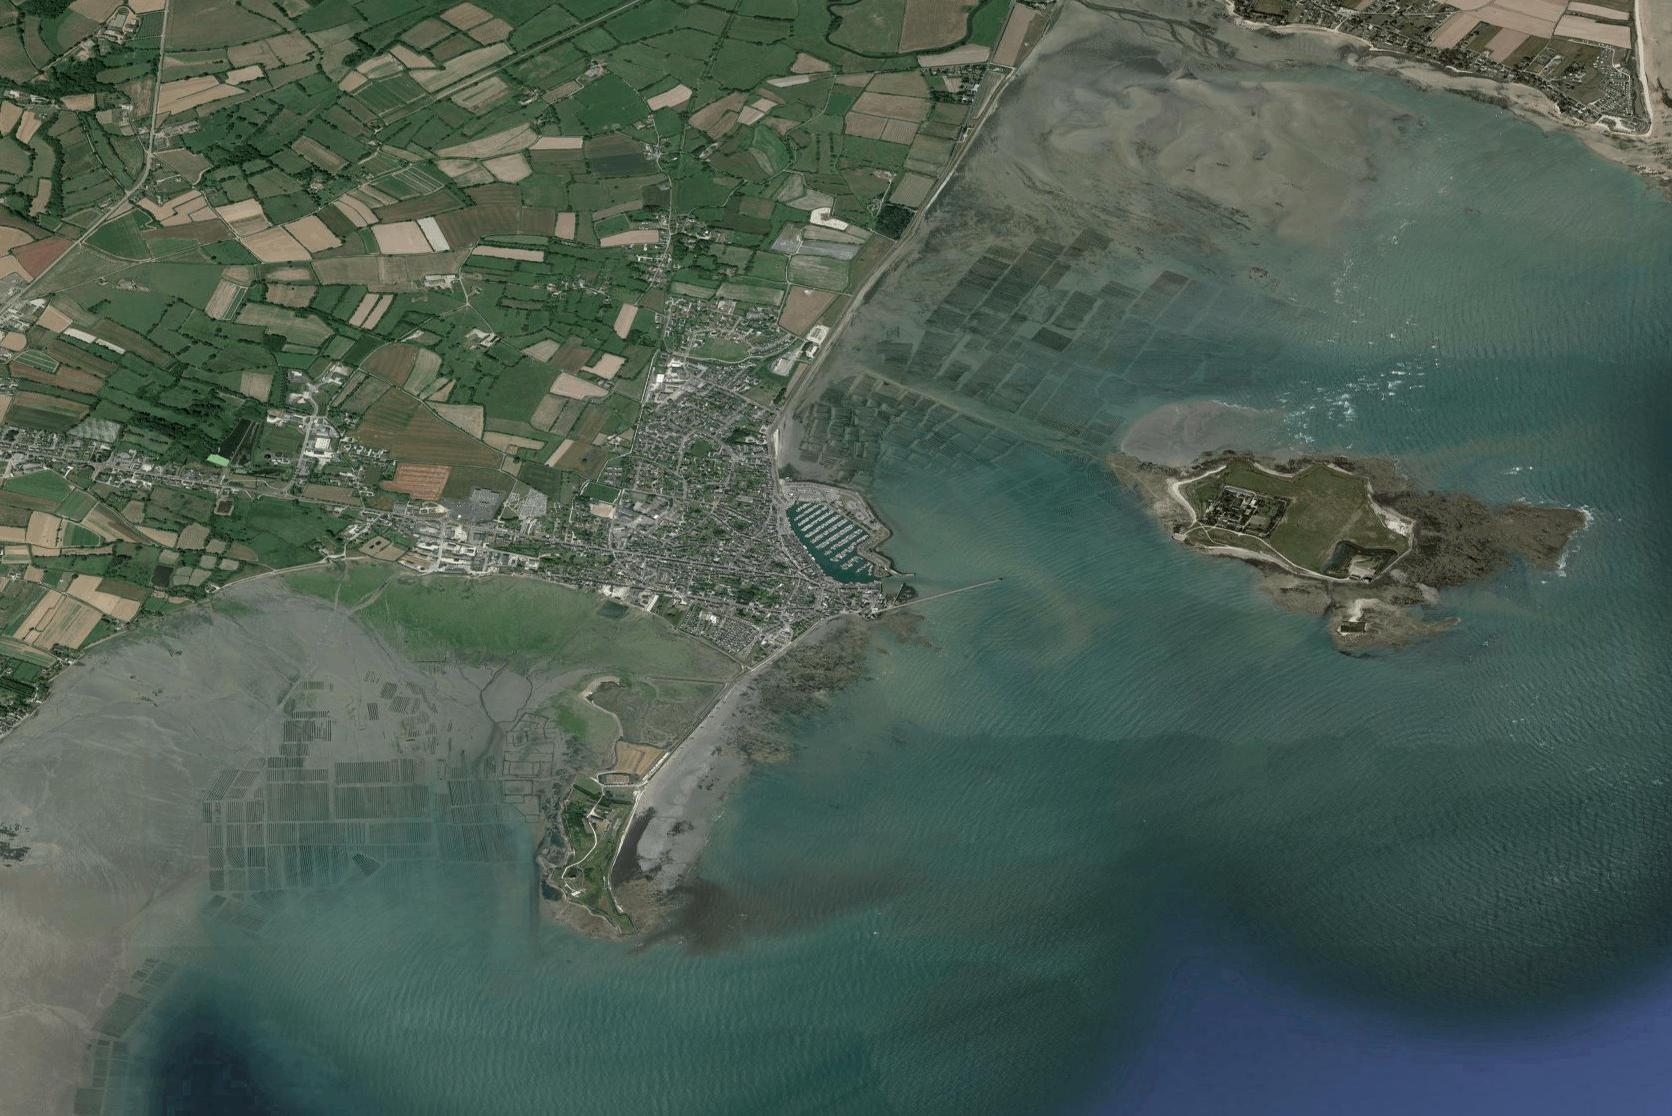harbor: (781, 485, 913, 589)
